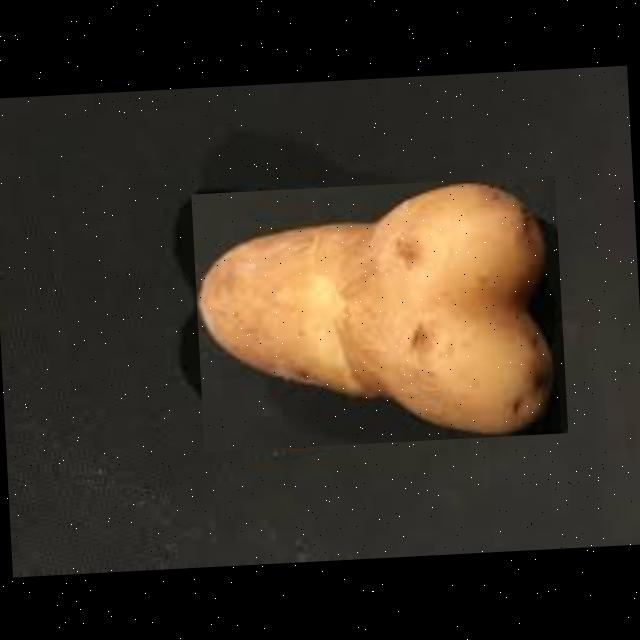Damaged potato: (191, 175, 568, 452)
